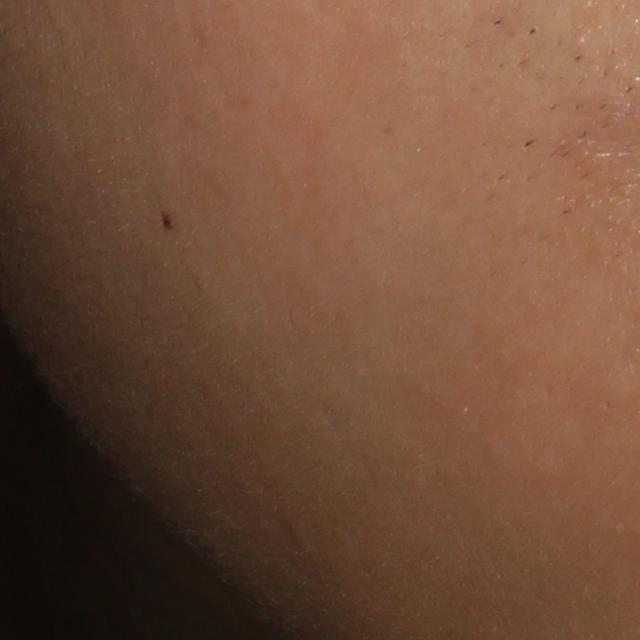nevus: (160, 209, 176, 232)
